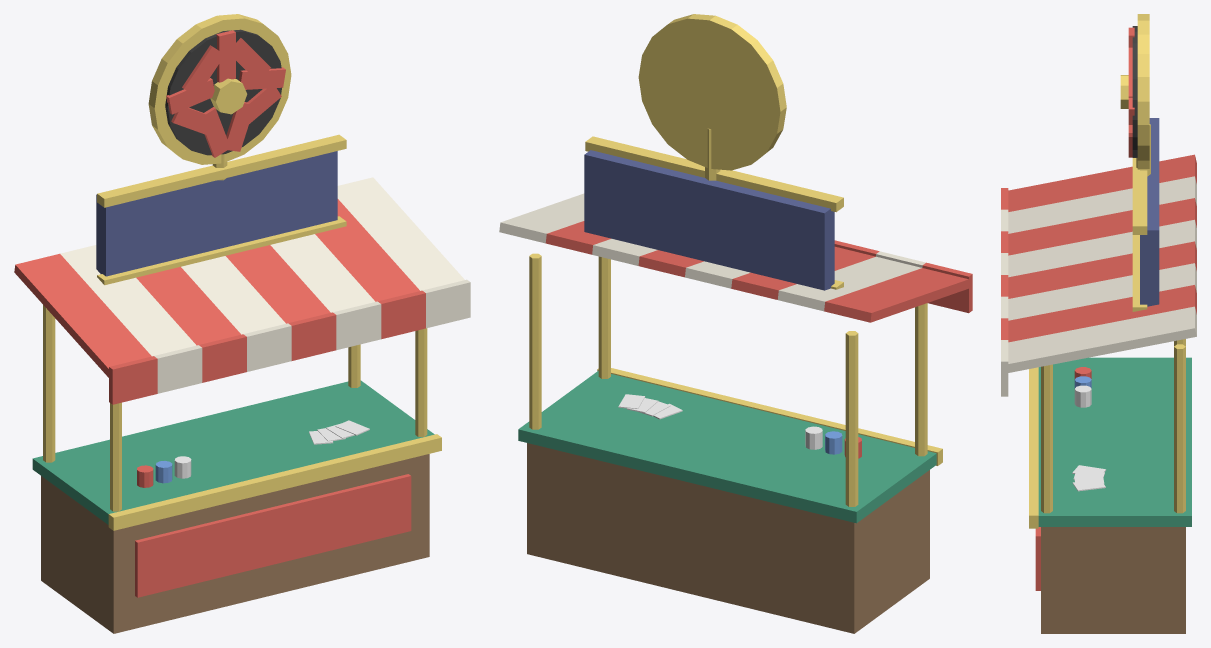
The model's file is CasinoBooth.fbx.
3 views of the same model, side by side, from view 1: azimuth 30°, elevation 25°; view 2: azimuth 150°, elevation 25°; view 3: azimuth 270°, elevation 25° (orthographic). The views are drawn at different scales.
Parts seen in each view (by area): view 1: Body; view 2: Body; view 3: Body.
Boxes of the visible parts, x1,y1,x2,y2 form: Body: (14, 14, 470, 633); Body: (499, 14, 972, 633); Body: (1001, 14, 1196, 633).
Size of the model in its own units: 3.4 by 4.9 by 1.62.
